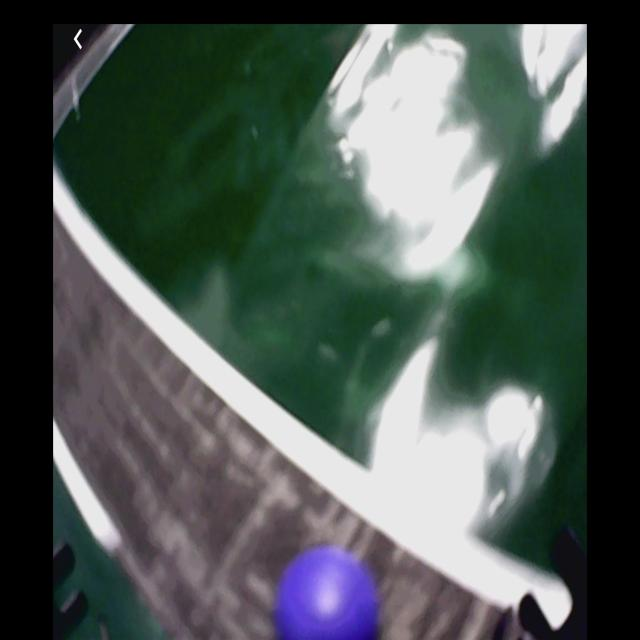ball: (279, 548, 379, 640)
